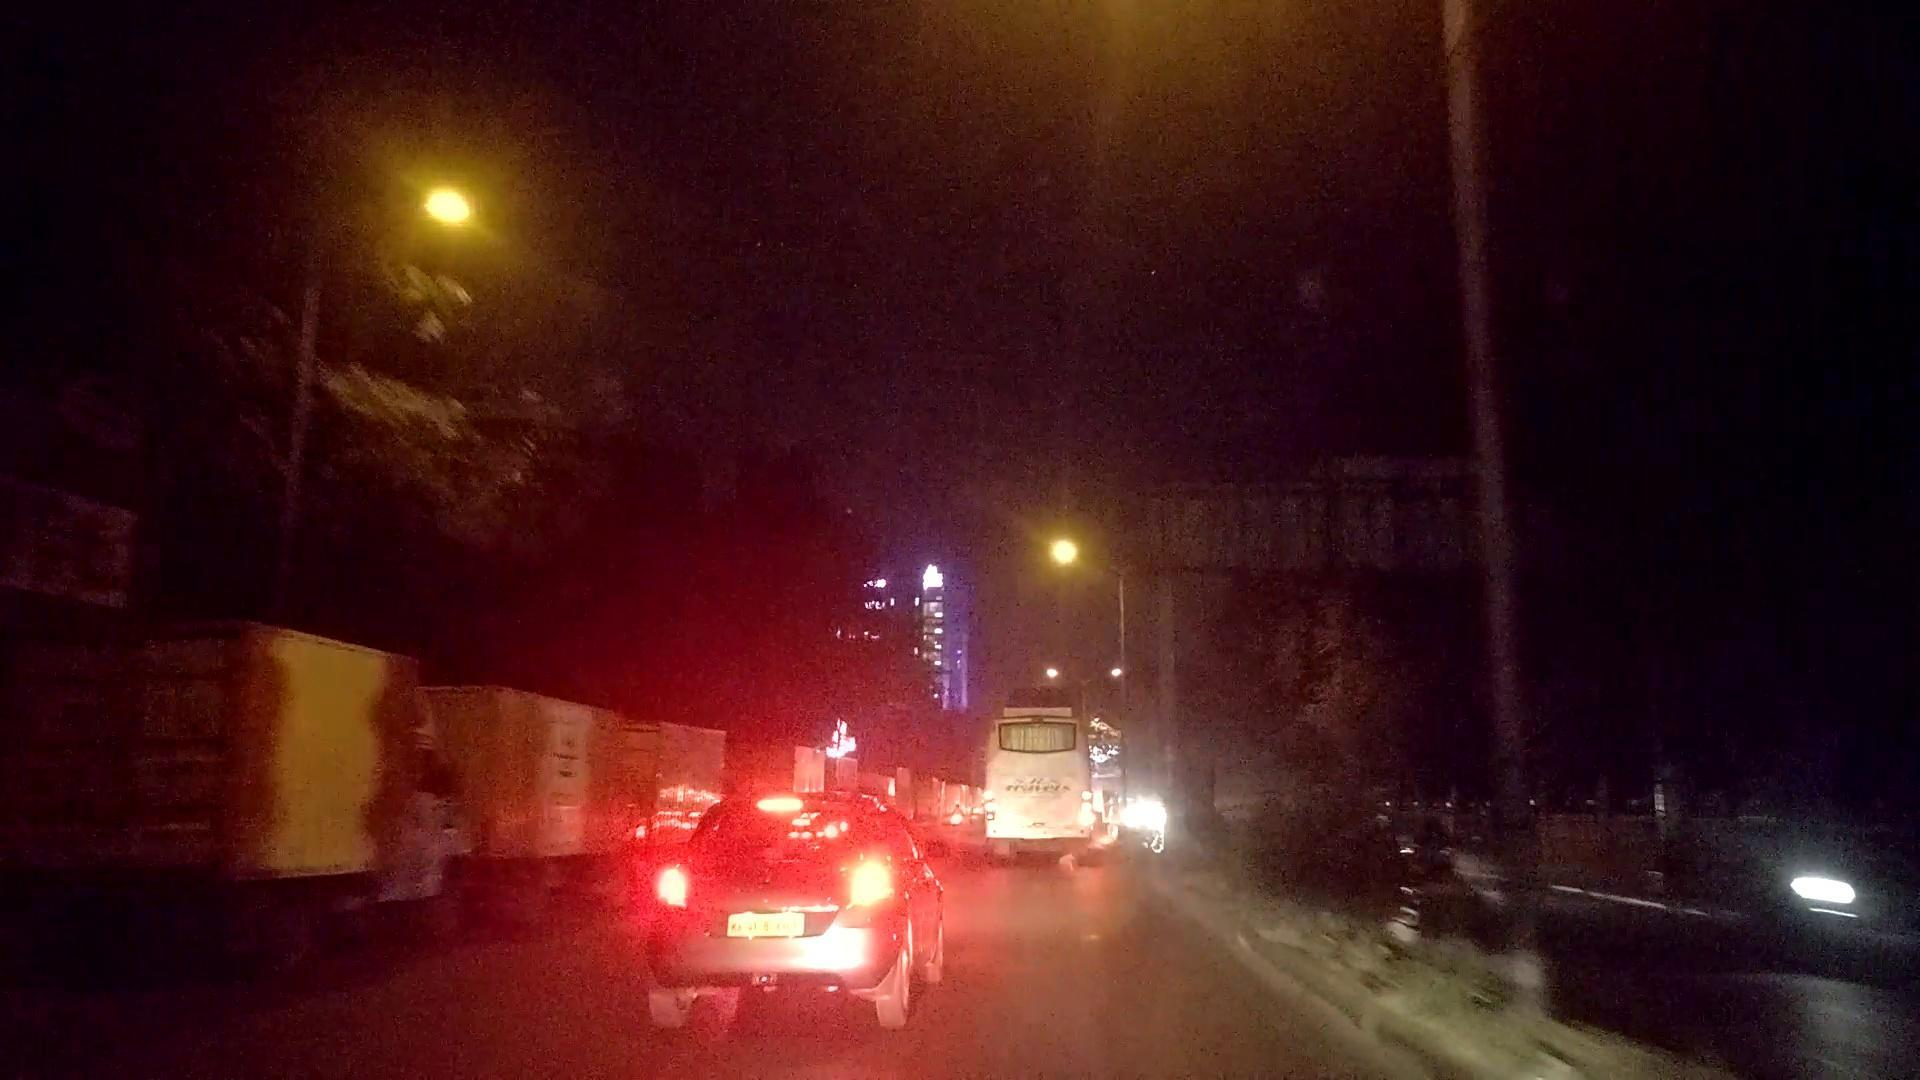on: (270, 42, 559, 331), (980, 382, 1151, 691)
